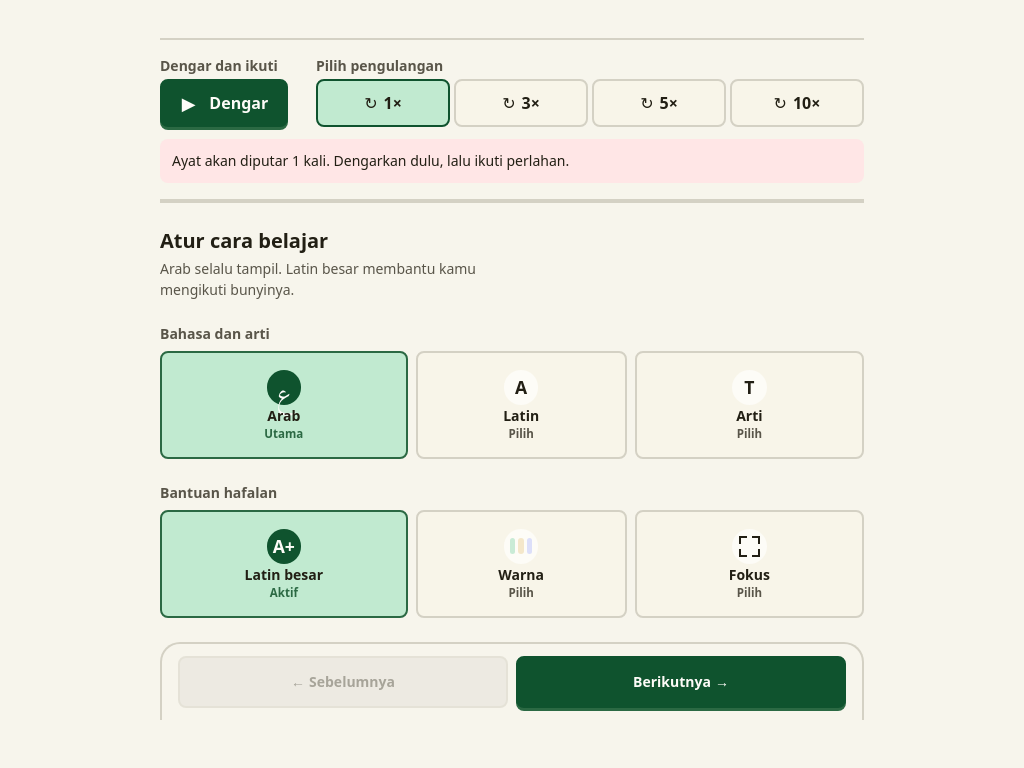
it: MemorizationPlayer › shows the translation only when requested
The width and height of the screenshot is (1024, 768).
(page scrolled)
Expected: the text "Katakanlah (Nabi Muhammad), “Dialah Allah Yang Maha Esa." is not shown
Click the button with aria-label "Tampilkan arti" at coordinates (749, 405), box left=635, top=351, right=864, bottom=459
(page scrolled)
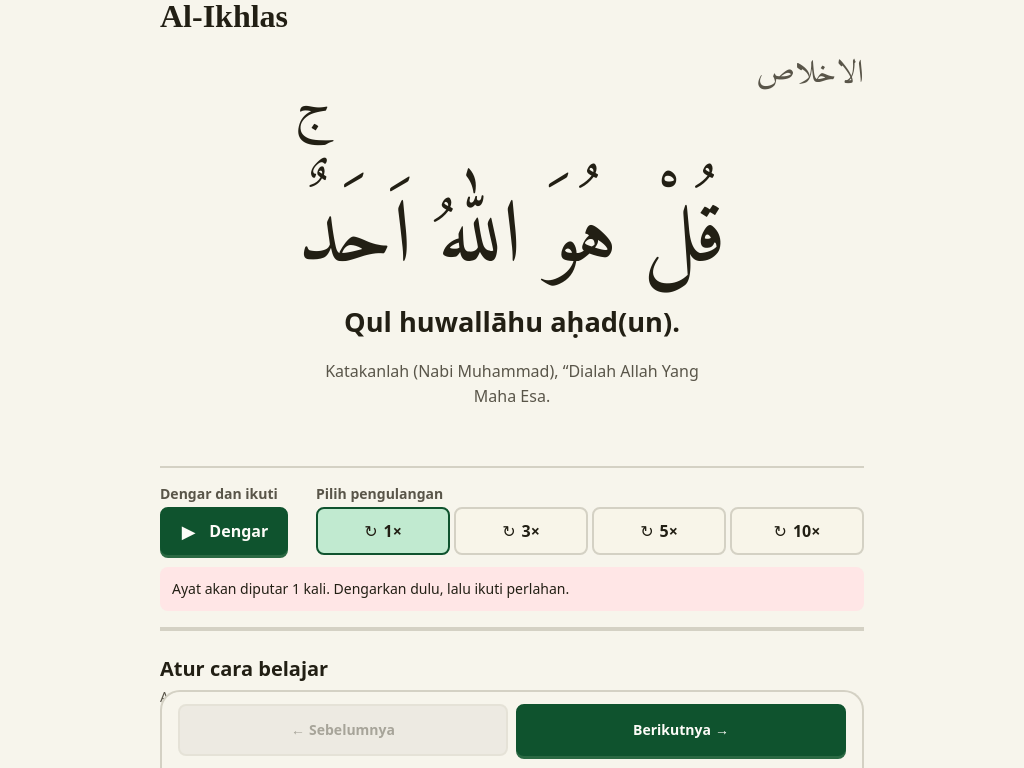
Result: the text "Katakanlah (Nabi Muhammad), “Dialah Allah Yang Maha Esa." is shown at left=320, top=359, right=704, bottom=410
